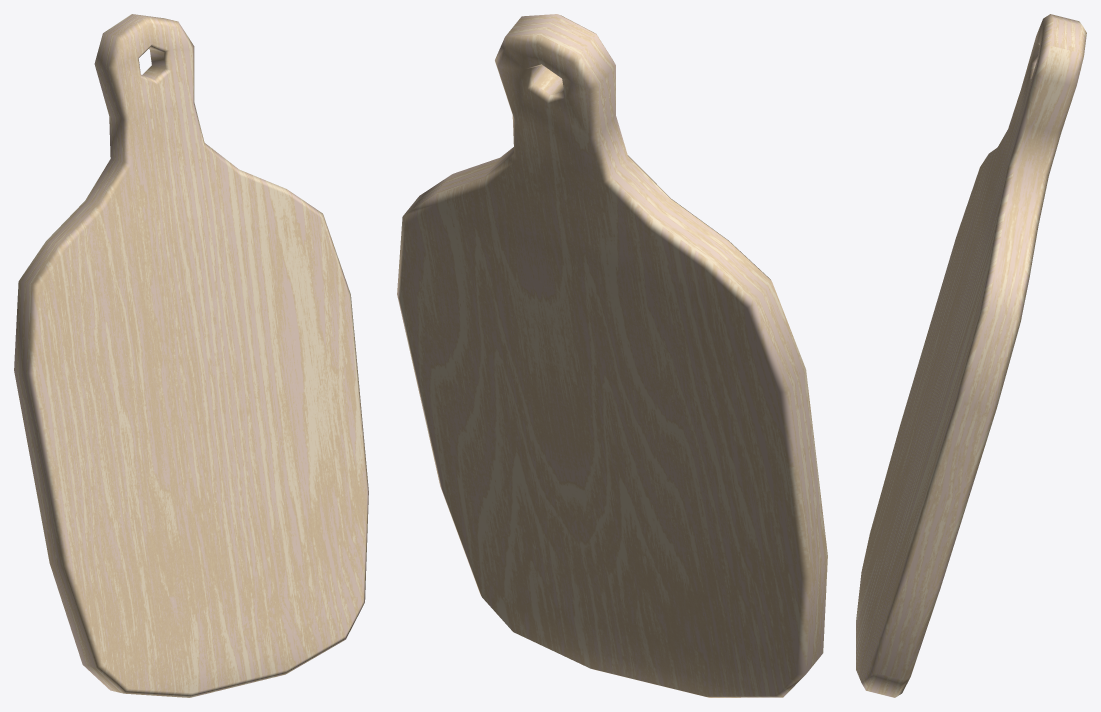
The model's file is prop_007.fbx.
The picture shows the model from 3 angles, left to right: view 1: azimuth 30°, elevation 25°; view 2: azimuth 150°, elevation 25°; view 3: azimuth 270°, elevation 25°; orthographic projection. The views are drawn at different scales.
Visible parts, largest first — view 1: prop_007; view 2: prop_007; view 3: prop_007.
Part boxes in pixels (x1=…): prop_007: x1=14, y1=14, x2=368, y2=697; prop_007: x1=397, y1=14, x2=827, y2=697; prop_007: x1=856, y1=14, x2=1086, y2=697.
Bounding box in the file's own units: 27.83 × 16.36 × 50.11.
